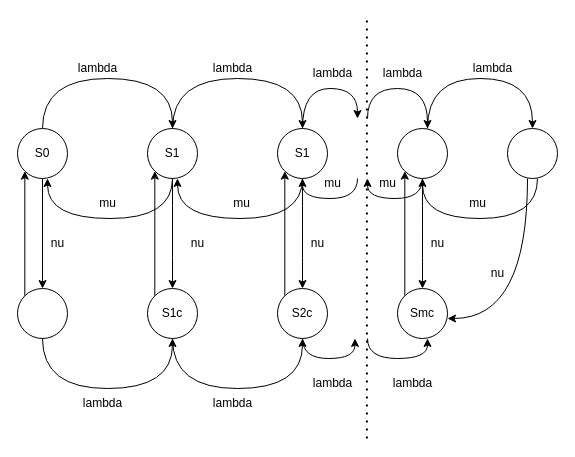
This 575x457 diagram has some shape labels left out. The shapes that lost their labels are listed below. From the top down, each one's centre as x and y in pixels, then its label:
(x=422, y=153): Sm
(x=532, y=153): Sm+1
(x=42, y=313): S0c
